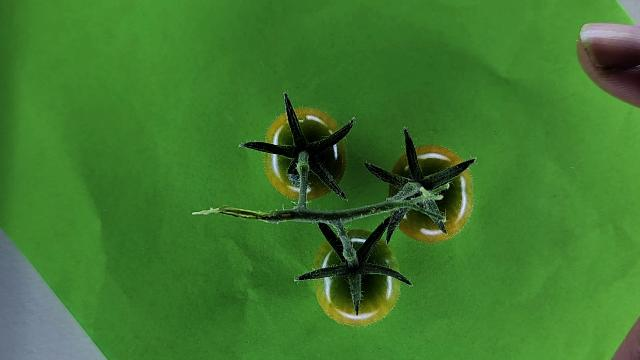Fully Grown: (310, 229, 403, 327), (388, 145, 474, 243), (262, 107, 347, 200)
